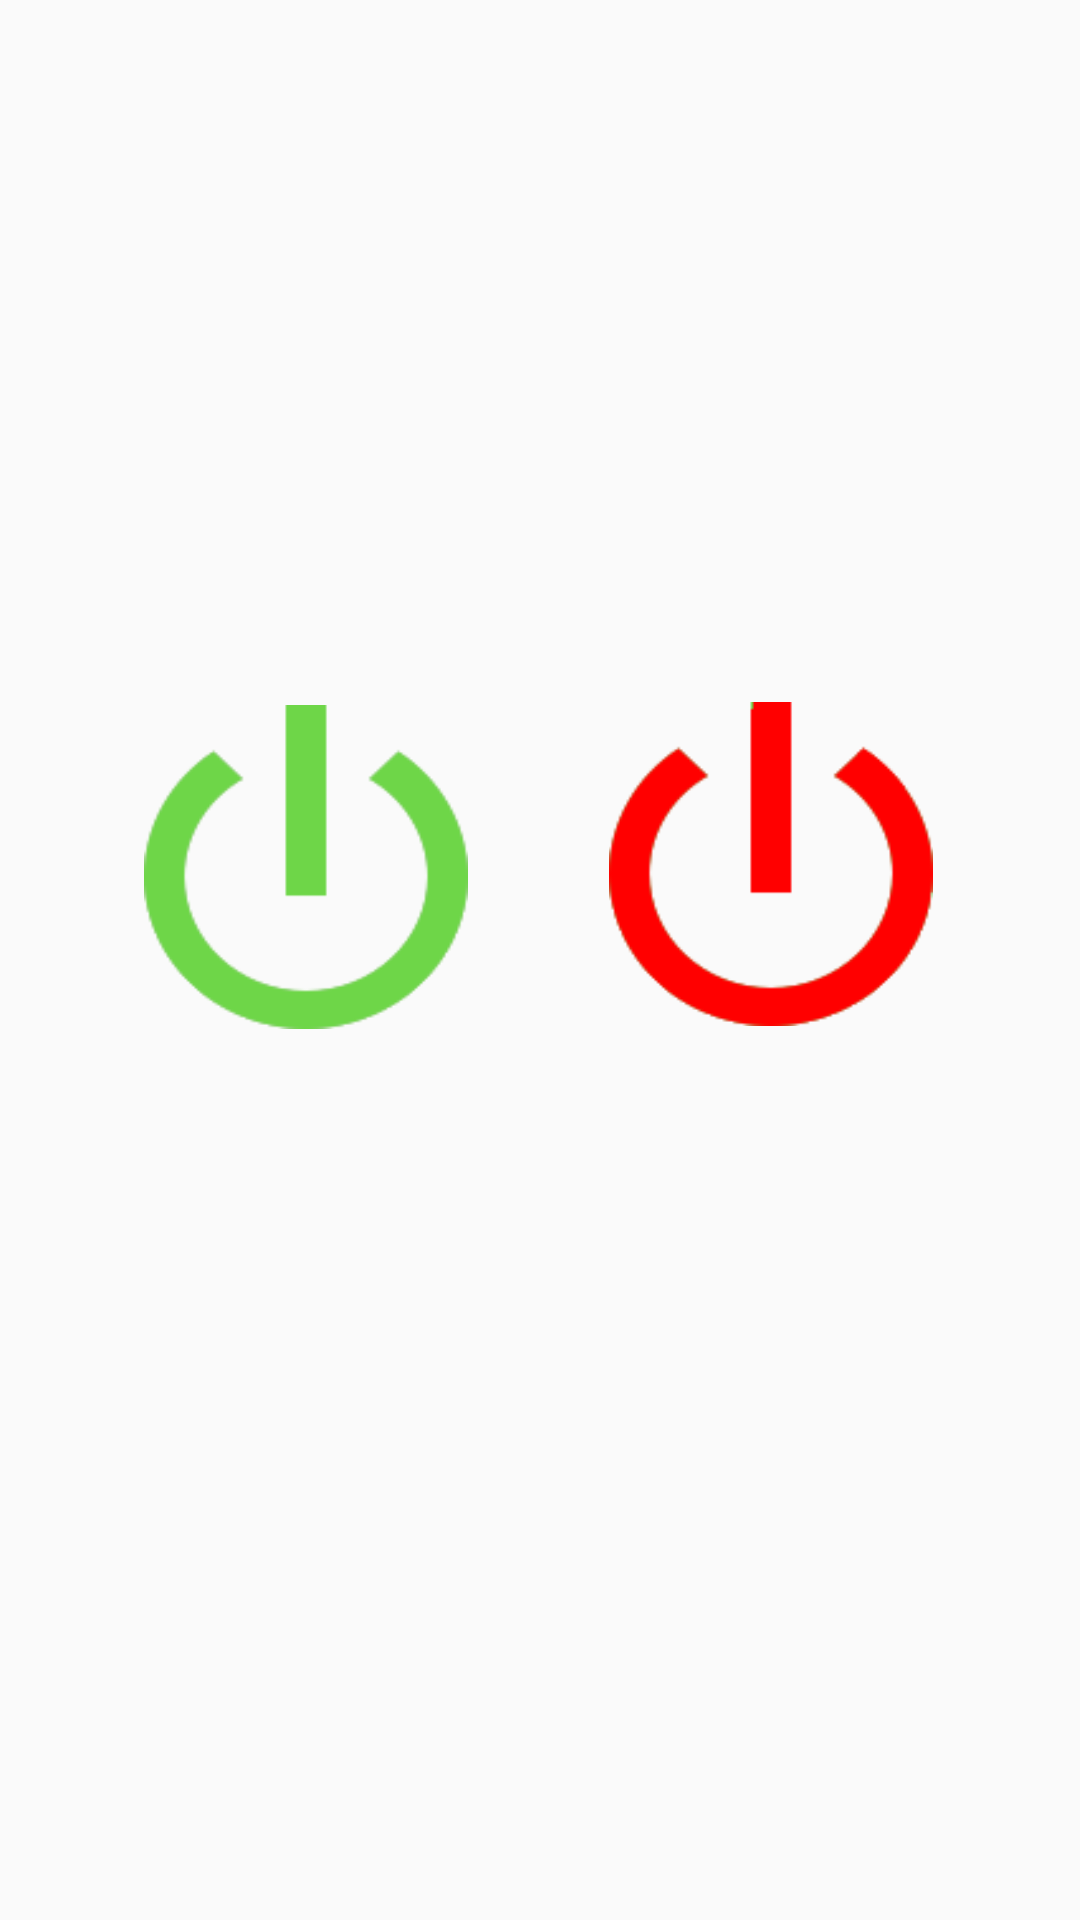

Icon click points for this 1080×1920 phone screenshot, format (x,y):
off: (771,864)
